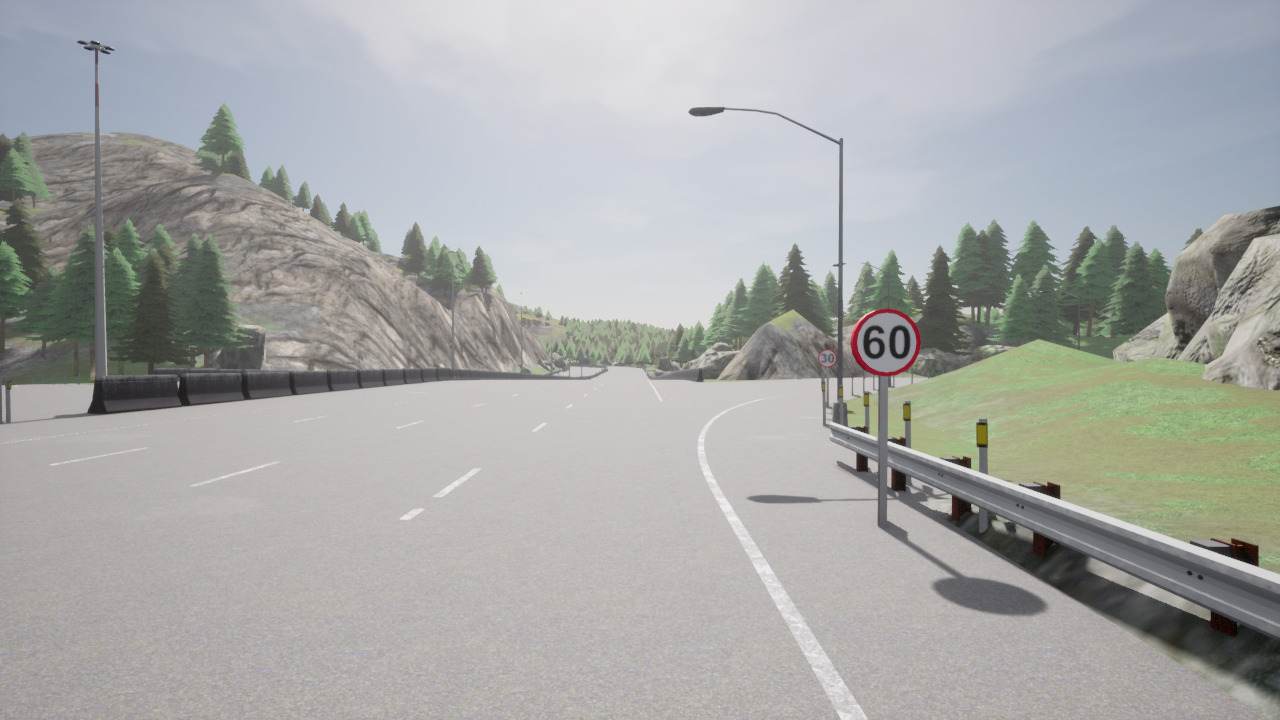sl30: (818, 349, 838, 368)
sl60: (850, 307, 923, 378)
